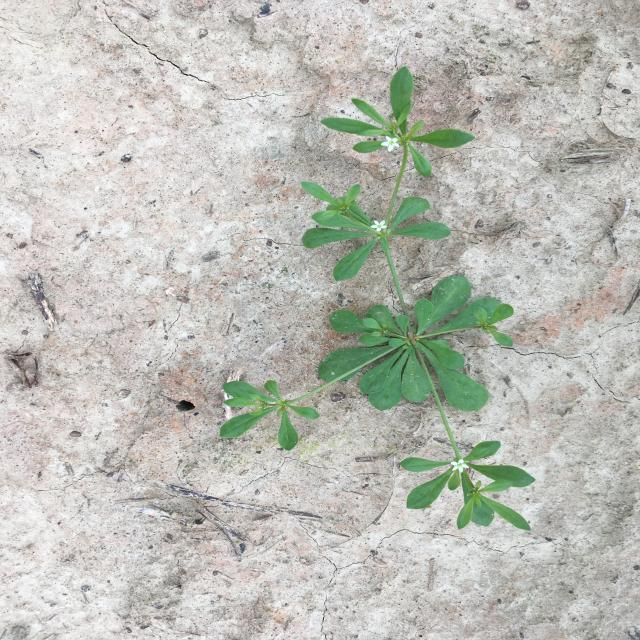Carpetweed: (219, 66, 536, 530)
